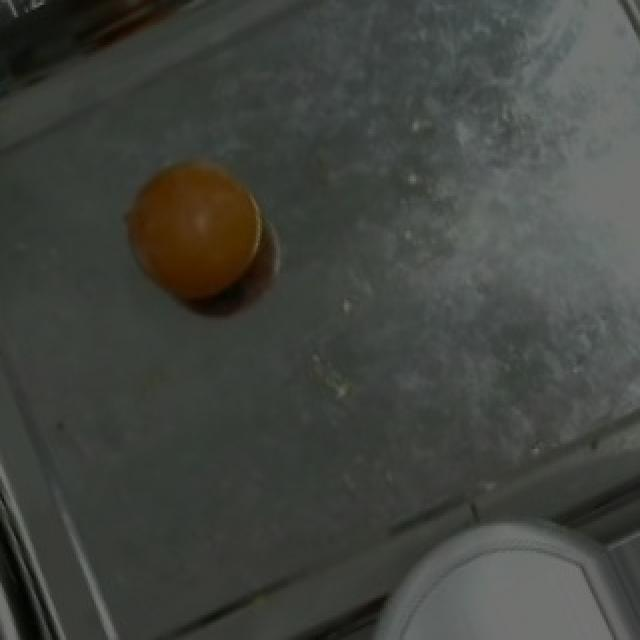Fruit: (108, 139, 284, 317)
